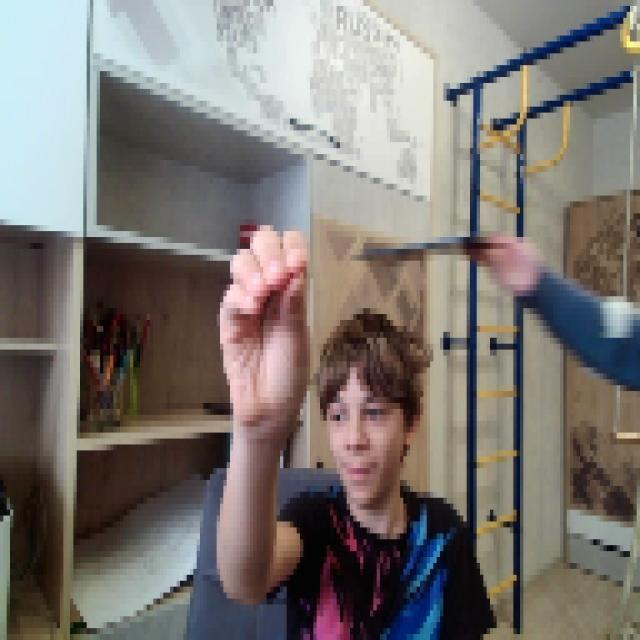left_click: (213, 213, 310, 421)
